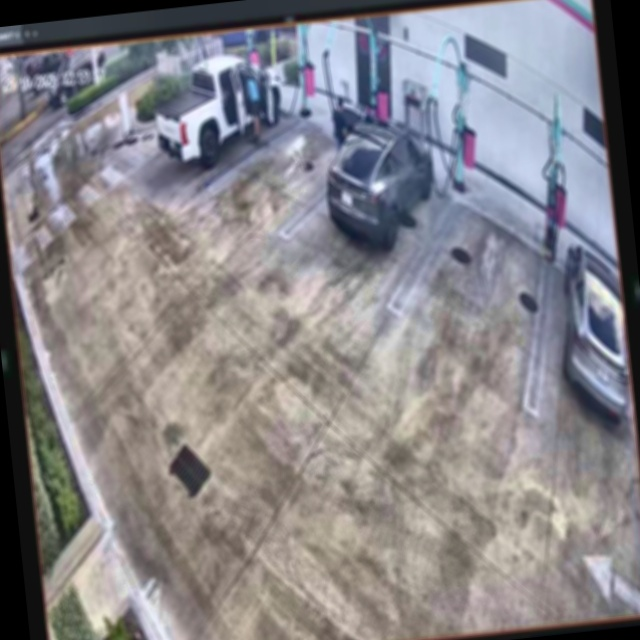Car: (319, 115, 442, 256), (151, 51, 286, 170)
